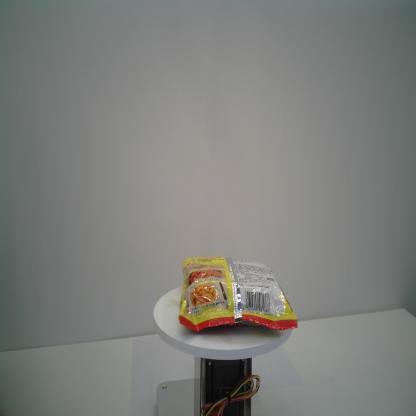Instant Noodles: (177, 255, 299, 336)
